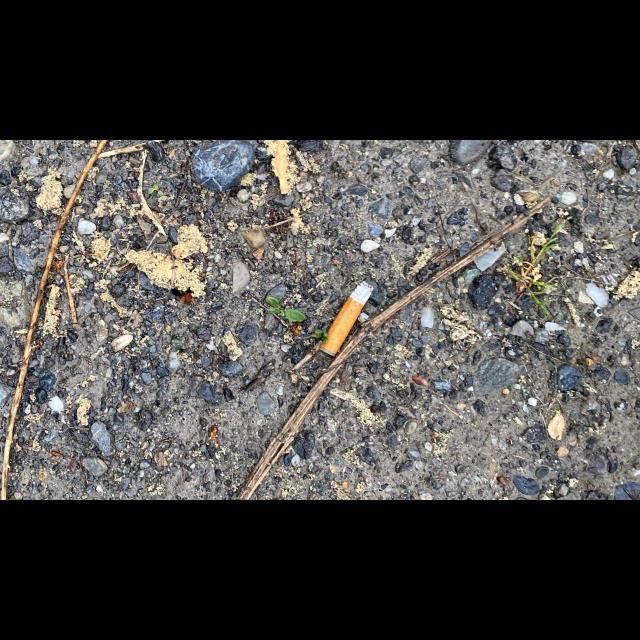cigarette: (318, 282, 374, 358)
